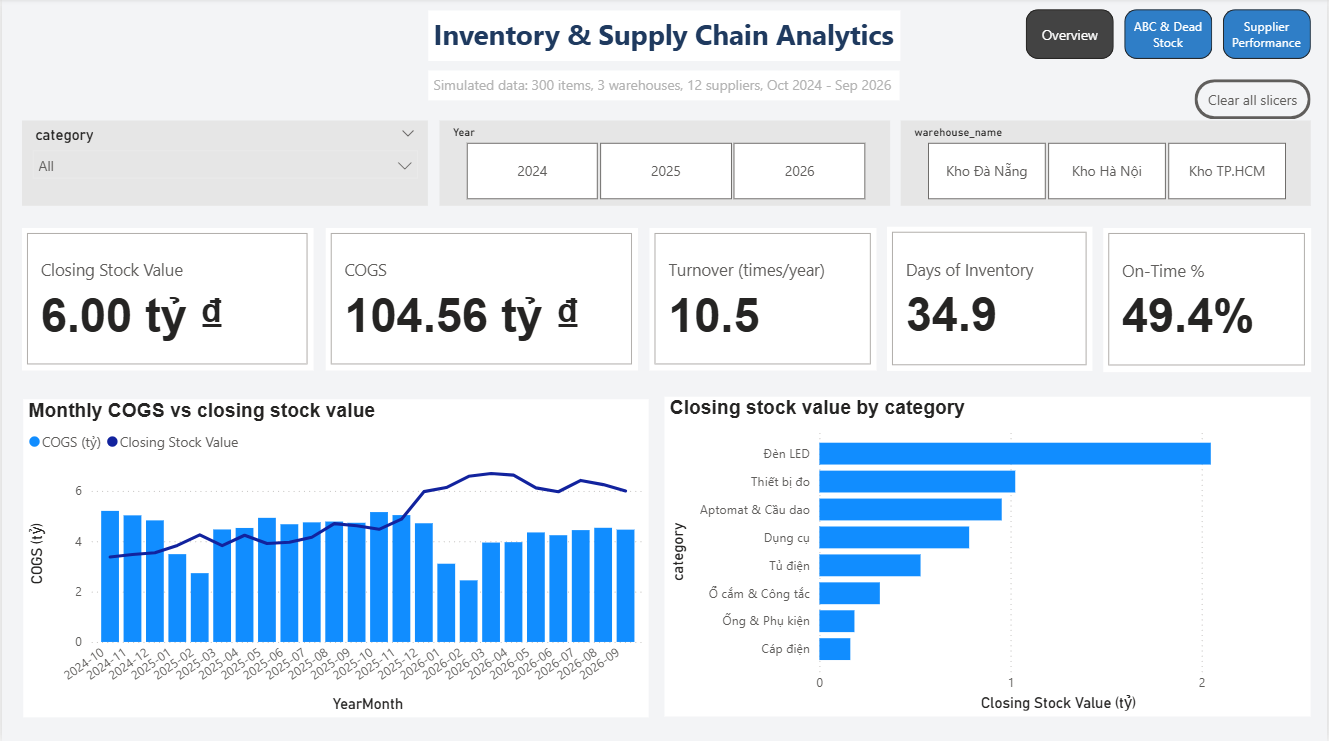

What the dashboard file says about the page in this screenshot:
{"tool":"powerbi","page":{"name":"Overview","canvas":[1280,720],"ordinal":0},"visuals":[{"type":"textbox","box":[411.8,11.8,456.4,48.5],"z":0},{"type":"textbox","box":[411.8,69.5,455.1,28.9],"z":1000},{"type":"slicer","fields":{"Values":["Dim_Date.Year"]},"box":[422.3,118,435.4,82.6],"z":2000},{"type":"slicer","fields":{"Values":["Dim_Warehouse.warehouse_name"]},"box":[868.2,118,396.1,82.6],"z":3000},{"type":"slicer","fields":{"Values":["Dim_Item.category"]},"box":[19.7,118,392.1,82.6],"z":4000},{"type":"cardVisual","fields":{"Data":["_Measures.Closing Stock Value (Display)"]},"box":[19.7,221.6,282,137.7],"z":5000},{"type":"cardVisual","fields":{"Data":["_Measures.COGS (Display)"]},"box":[312.5,221.6,301.6,137.7],"z":6000},{"type":"cardVisual","fields":{"Data":["_Measures.Inventory Turnover (Annualized)"]},"box":[624.9,221.6,219,137.7],"z":7000},{"type":"cardVisual","fields":{"Data":["_Measures.Days of Inventory"]},"box":[854.7,220.3,198,139],"z":8000},{"type":"cardVisual","fields":{"Data":["_Measures.On-Time %"]},"box":[1063.6,222.1,200.4,138.8],"z":9000},{"type":"lineClusteredColumnComboChart","title":"Monthly COGS vs closing stock value","fields":{"Category":["Dim_Date.YearMonth"],"Y":["_Measures.COGS (tỷ)"],"Y2":["_Measures.Closing Stock Value (tỷ)"]},"box":[20,387.1,604.3,307.1],"z":10000},{"type":"clusteredBarChart","title":"Closing stock value by category","fields":{"Category":["Dim_Item.category"],"Y":["_Measures.Closing Stock Value (tỷ)"]},"box":[640,385.7,624.3,308.6],"z":11000},{"type":"pageNavigator","box":[988.6,11.4,275.7,48.6],"z":11001},{"type":"actionButton","box":[1150,78.6,114.3,38.6],"z":11002}]}

Visuals, with their boxes in screenshot pixels (x1, y1, x2, y2), scaled from the page's 1280x720 canvas onto the 1329x741 screenshot:
textbox: locate(428, 12, 901, 62)
textbox: locate(428, 72, 900, 101)
slicer - Dim_Date.Year: locate(438, 121, 891, 206)
slicer - Dim_Warehouse.warehouse_name: locate(901, 121, 1313, 206)
slicer - Dim_Item.category: locate(20, 121, 428, 206)
cardVisual - _Measures.Closing Stock Value (Display): locate(20, 228, 313, 370)
cardVisual - _Measures.COGS (Display): locate(324, 228, 638, 370)
cardVisual - _Measures.Inventory Turnover (Annualized): locate(649, 228, 876, 370)
cardVisual - _Measures.Days of Inventory: locate(887, 227, 1093, 370)
cardVisual - _Measures.On-Time %: locate(1104, 229, 1312, 371)
"Monthly COGS vs closing stock value" lineClusteredColumnComboChart: locate(21, 398, 648, 714)
"Closing stock value by category" clusteredBarChart: locate(664, 397, 1313, 715)
pageNavigator: locate(1026, 12, 1313, 62)
actionButton: locate(1194, 81, 1313, 121)
